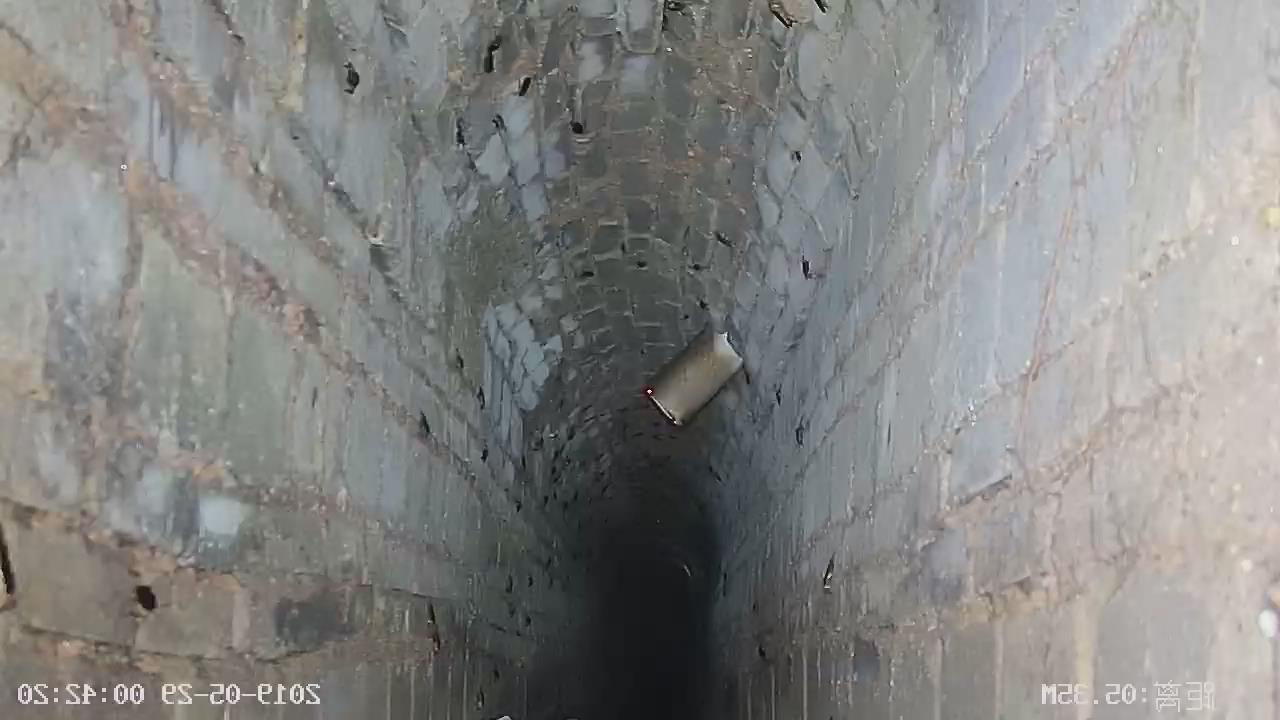ZGAJ: (643, 322, 744, 425)
